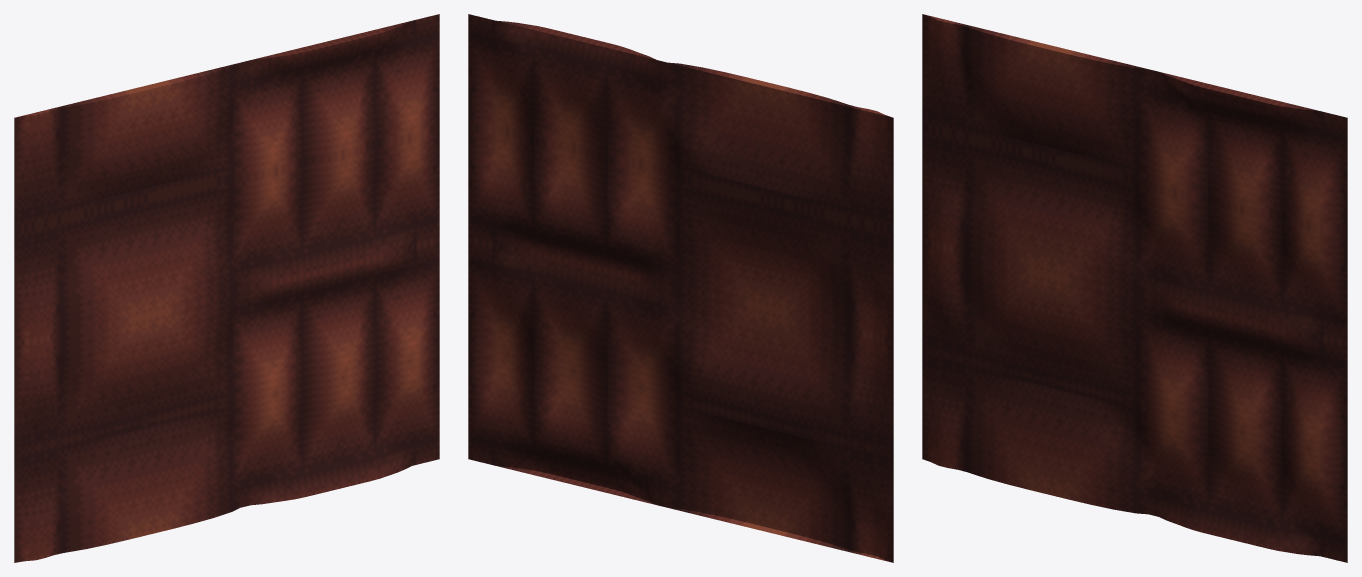
Rendered from exec2_5.fbx.
3 views of the same model, side by side, from view 1: azimuth 30°, elevation 25°; view 2: azimuth 150°, elevation 25°; view 3: azimuth 330°, elevation 25° (orthographic).
Visible parts, largest first — view 1: exec2_5; view 2: exec2_5; view 3: exec2_5.
Part boxes in pixels (bbox=[...]): exec2_5: bbox=[14, 14, 439, 562]; exec2_5: bbox=[468, 14, 893, 562]; exec2_5: bbox=[922, 14, 1347, 562].
Bounding box in the file's own units: 256 × 256 × 5.55.
